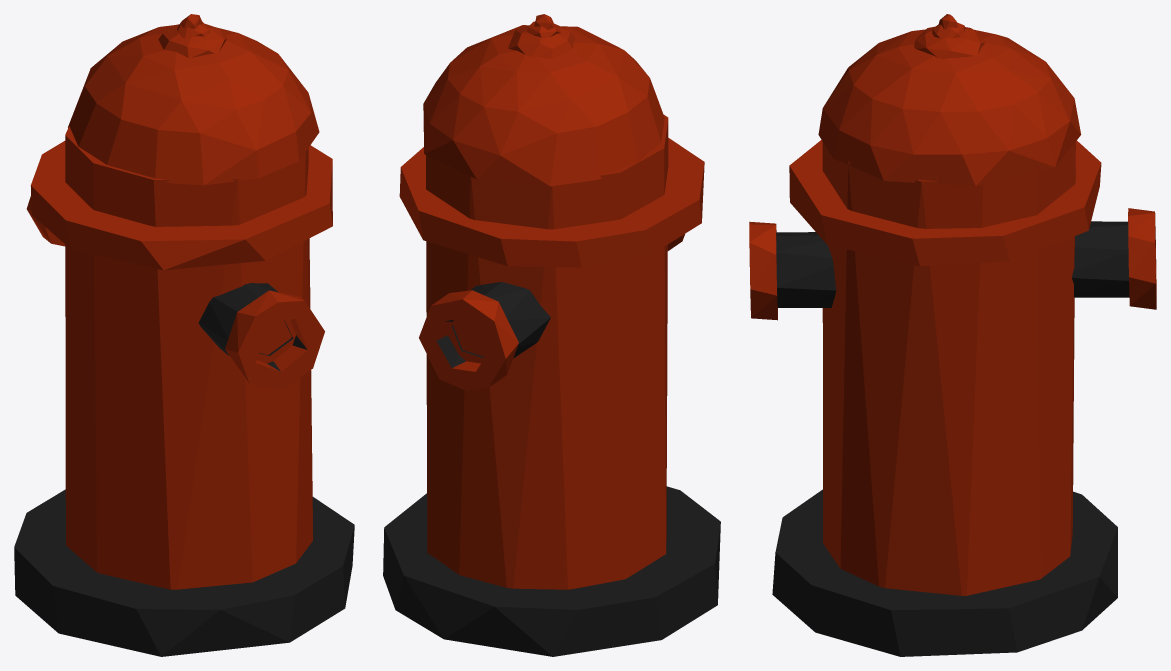
The model's file is idrante.fbx.
3 renders of one model, left to right at view 1: azimuth 30°, elevation 25°; view 2: azimuth 150°, elevation 25°; view 3: azimuth 270°, elevation 25°, orthographic.
Parts seen in each view (by area): view 1: Cylinder.002; view 2: Cylinder.002; view 3: Cylinder.002.
Boxes of the visible parts, x1,y1,x2,y2 form: Cylinder.002: (14, 14, 354, 656); Cylinder.002: (383, 14, 720, 656); Cylinder.002: (749, 14, 1156, 656).
Size of the model in its own units: 77.2 by 144 by 92.26.
